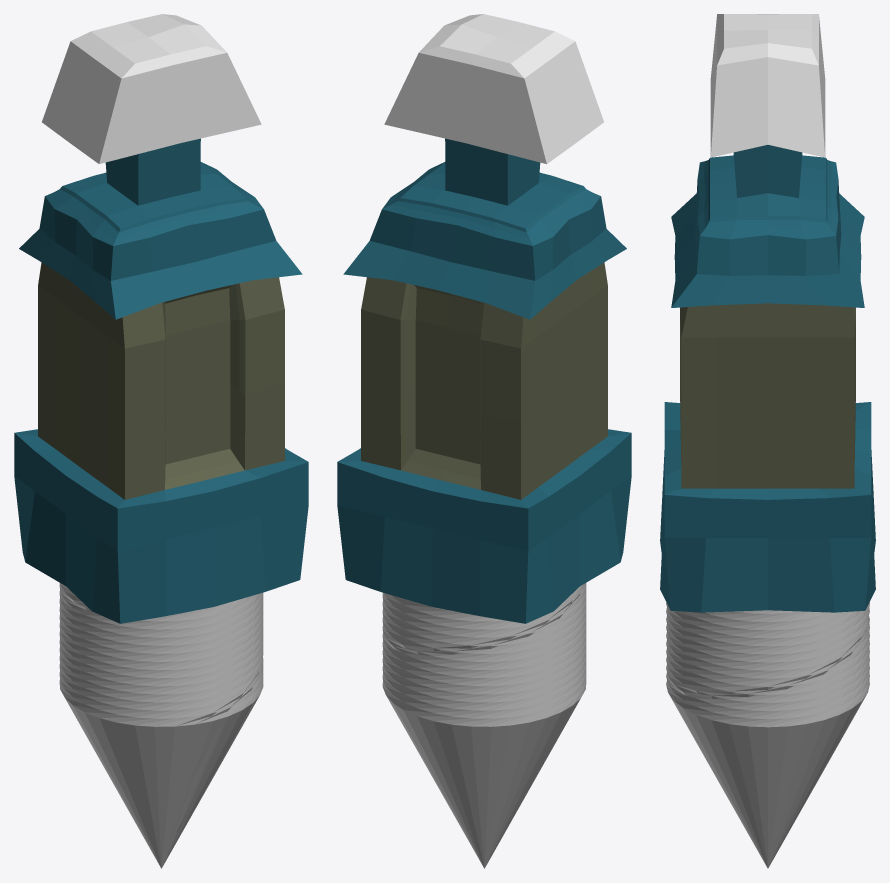
Rendered from weapon_drop.fbx.
3 renders of one model, left to right at view 1: azimuth 30°, elevation 25°; view 2: azimuth 150°, elevation 25°; view 3: azimuth 270°, elevation 25°, orthographic.
Visible parts, largest first — view 1: Cube, Cone; view 2: Cube, Cone; view 3: Cube, Cone.
Part boxes in pixels (bbox=[...]): Cube: bbox=[14, 14, 308, 623]; Cone: bbox=[59, 583, 263, 868]; Cube: bbox=[337, 14, 631, 623]; Cone: bbox=[382, 583, 586, 868]; Cube: bbox=[660, 14, 875, 612]; Cone: bbox=[666, 602, 869, 868].
Size of the model in its own units: 64.66 by 252 by 58.95.
